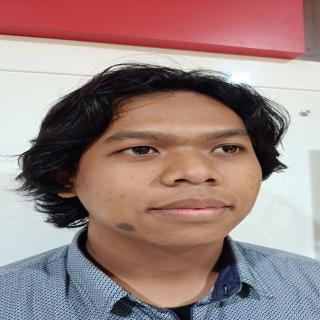Netral: (83, 87, 269, 254)
